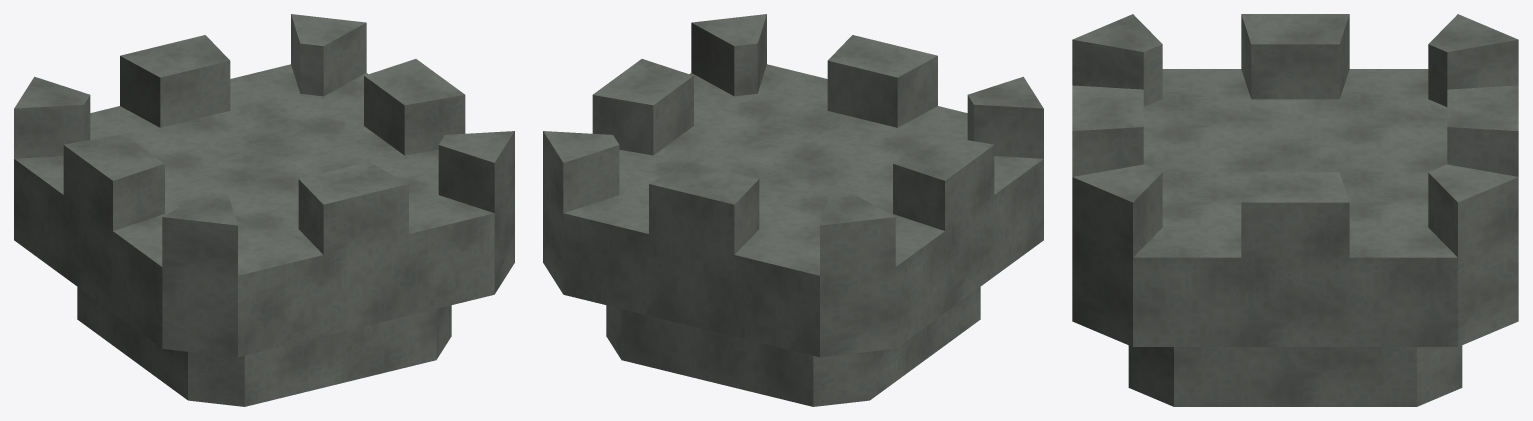
The model's file is FortressPillarHead.fbx.
The picture shows the model from 3 angles, left to right: view 1: azimuth 30°, elevation 25°; view 2: azimuth 150°, elevation 25°; view 3: azimuth 270°, elevation 25°; orthographic projection. The views are drawn at different scales.
Parts seen in each view (by area): view 1: FortressPillarHead.001; view 2: FortressPillarHead.001; view 3: FortressPillarHead.001.
Part boxes in pixels (left/top/right/bottom): FortressPillarHead.001: left=14, top=14, right=514, bottom=406; FortressPillarHead.001: left=543, top=14, right=1043, bottom=406; FortressPillarHead.001: left=1072, top=14, right=1518, bottom=406.
Bounding box in the file's own units: 11.5 × 6.49 × 11.5.
1 material, 1 textured.
